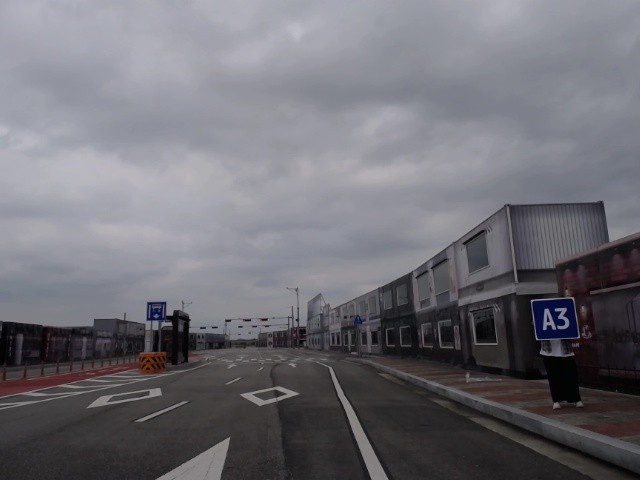delivery_a3: (531, 298, 579, 340)
